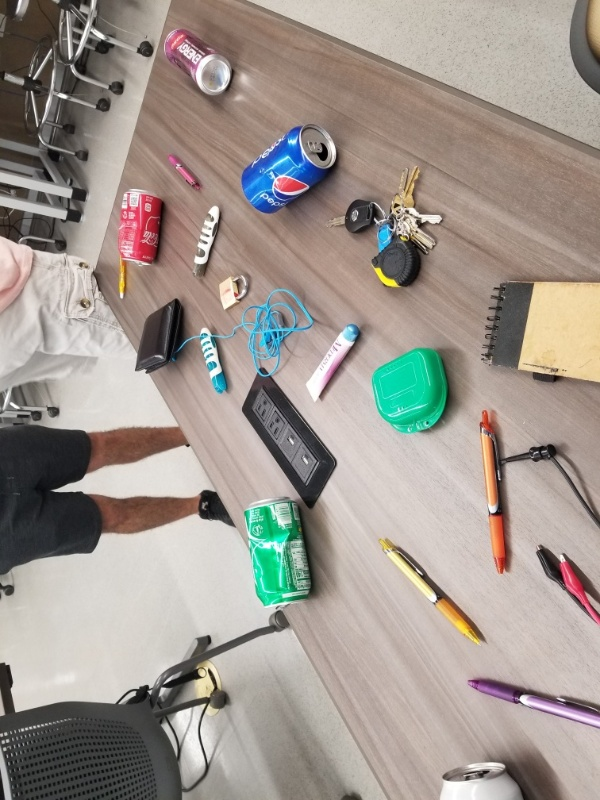can: (229, 121, 344, 218), (244, 491, 317, 612), (161, 24, 236, 100), (115, 186, 167, 270)
